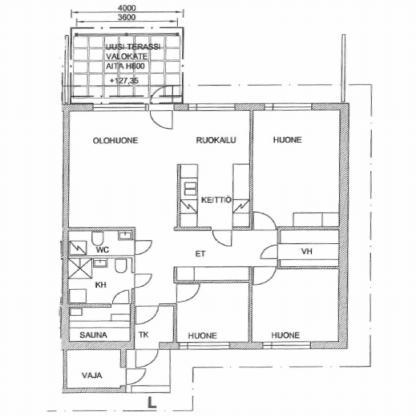door: (143, 104, 178, 133), (248, 261, 282, 288), (169, 279, 205, 304), (130, 346, 163, 370), (130, 302, 160, 327), (248, 210, 281, 232), (123, 366, 152, 387), (207, 225, 234, 246), (256, 241, 282, 262), (109, 288, 134, 309), (133, 269, 156, 290), (131, 238, 154, 258)
window: (84, 99, 150, 116), (186, 97, 238, 116), (258, 337, 314, 354), (174, 338, 236, 353), (259, 100, 320, 115)
